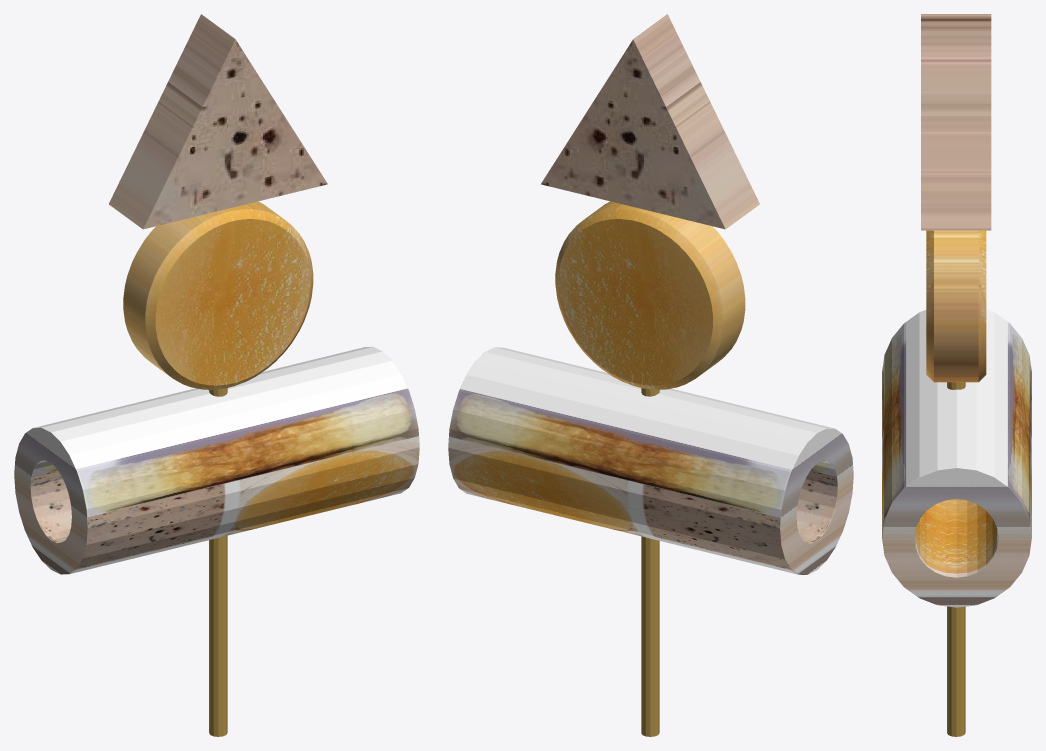
The model's file is oden.fbx.
3 renders of one model, left to right at view 1: azimuth 30°, elevation 25°; view 2: azimuth 150°, elevation 25°; view 3: azimuth 270°, elevation 25°, orthographic.
Parts seen in each view (by area): view 1: pCylinder7; view 2: pCylinder7; view 3: pCylinder7.
Boxes of the visible parts, x1,y1,x2,y2 form: pCylinder7: (14, 14, 419, 736); pCylinder7: (448, 14, 853, 736); pCylinder7: (882, 14, 1031, 736).
Bounding box in the file's own units: 2.79 × 5.68 × 1.07.
